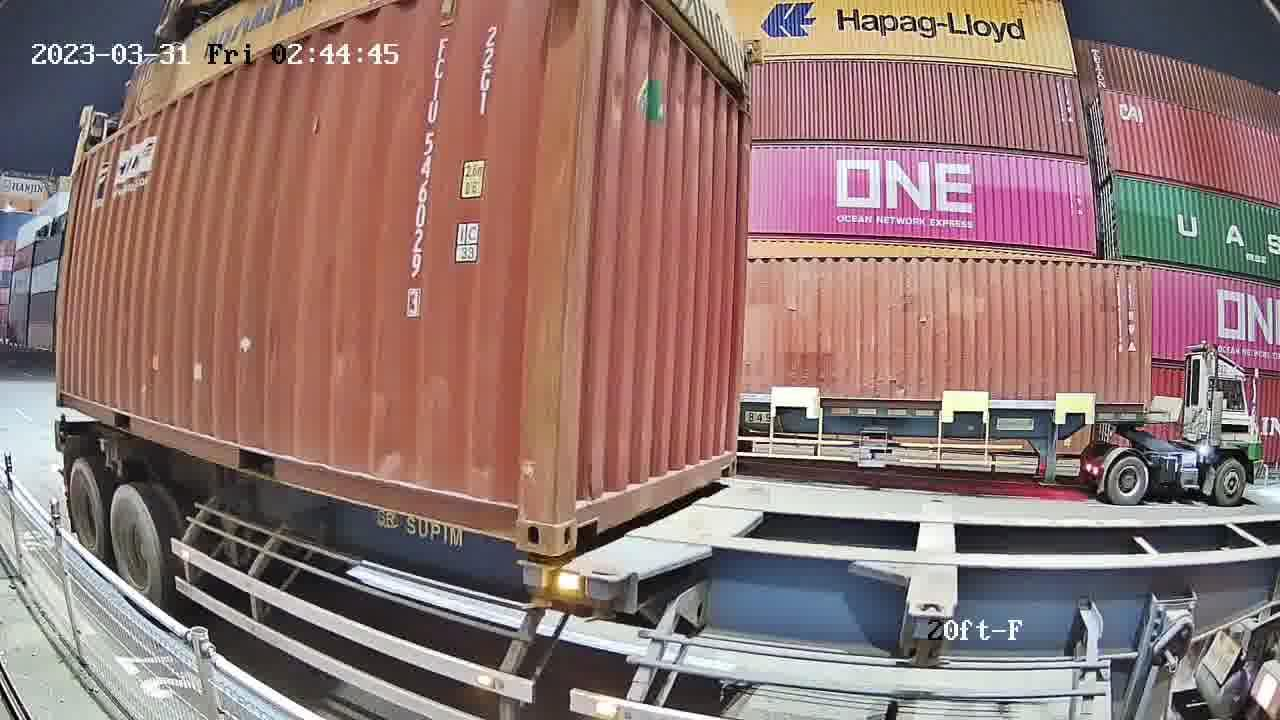Chassis: (586, 484, 769, 580)
Cone: (581, 564, 633, 623), (521, 553, 558, 610)
Hole_L: (555, 477, 605, 555)
Hole_R: (487, 485, 556, 557), (712, 434, 739, 480)
Tire: (109, 486, 163, 610), (68, 462, 105, 562)
